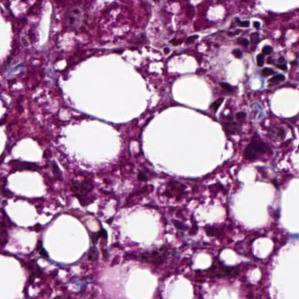inflammation: (250, 38, 293, 88)
